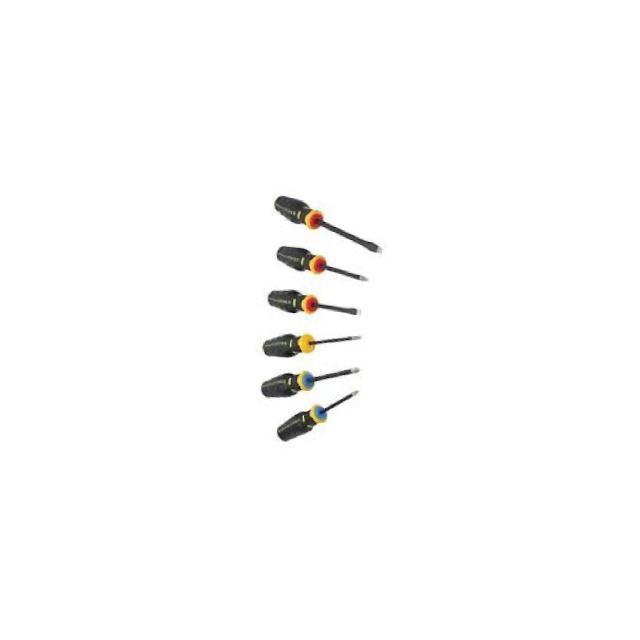screwdriver: (261, 190, 390, 254), (255, 356, 361, 412), (274, 382, 358, 448), (259, 322, 363, 367), (273, 242, 373, 284), (266, 287, 366, 322)
